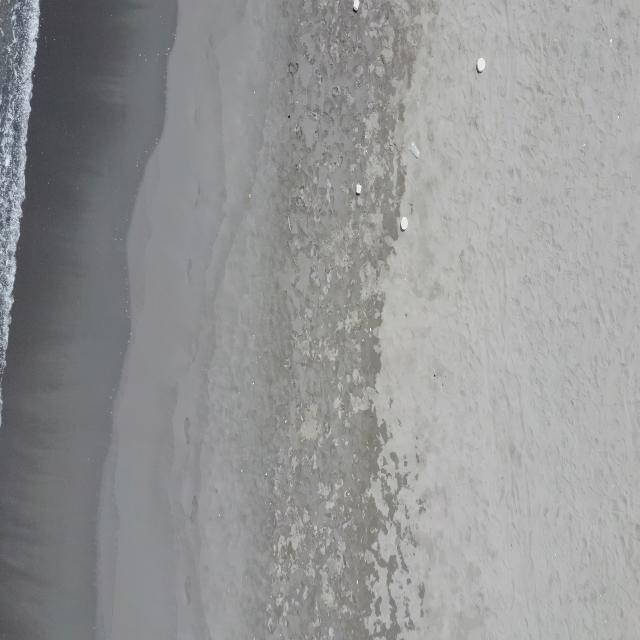take-away-containers: (477, 57, 486, 73), (400, 216, 409, 231), (355, 182, 363, 195), (352, 0, 360, 12)
takeaway-cup: (410, 140, 420, 159)
